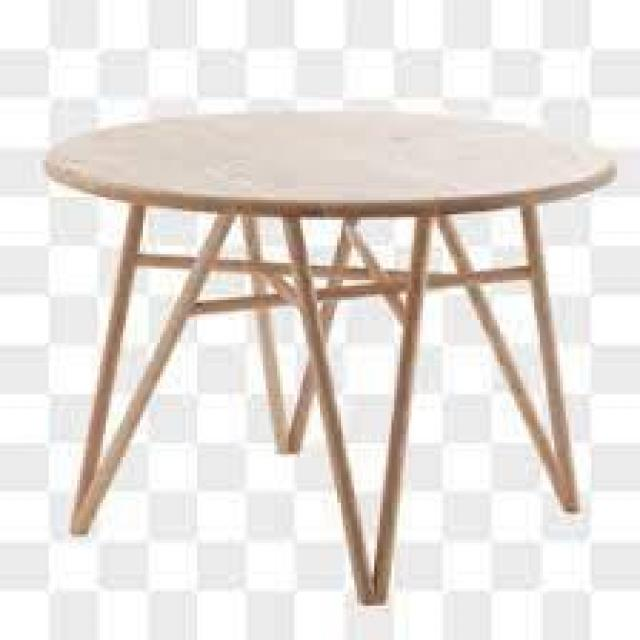table: (14, 49, 623, 620)
